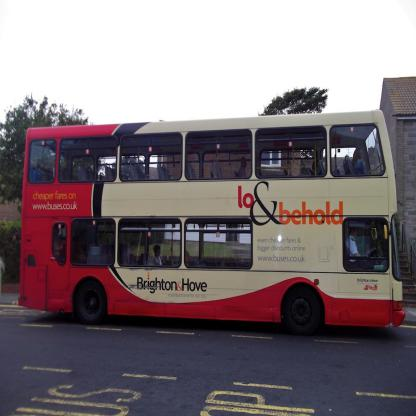Bus: (19, 108, 406, 336)
